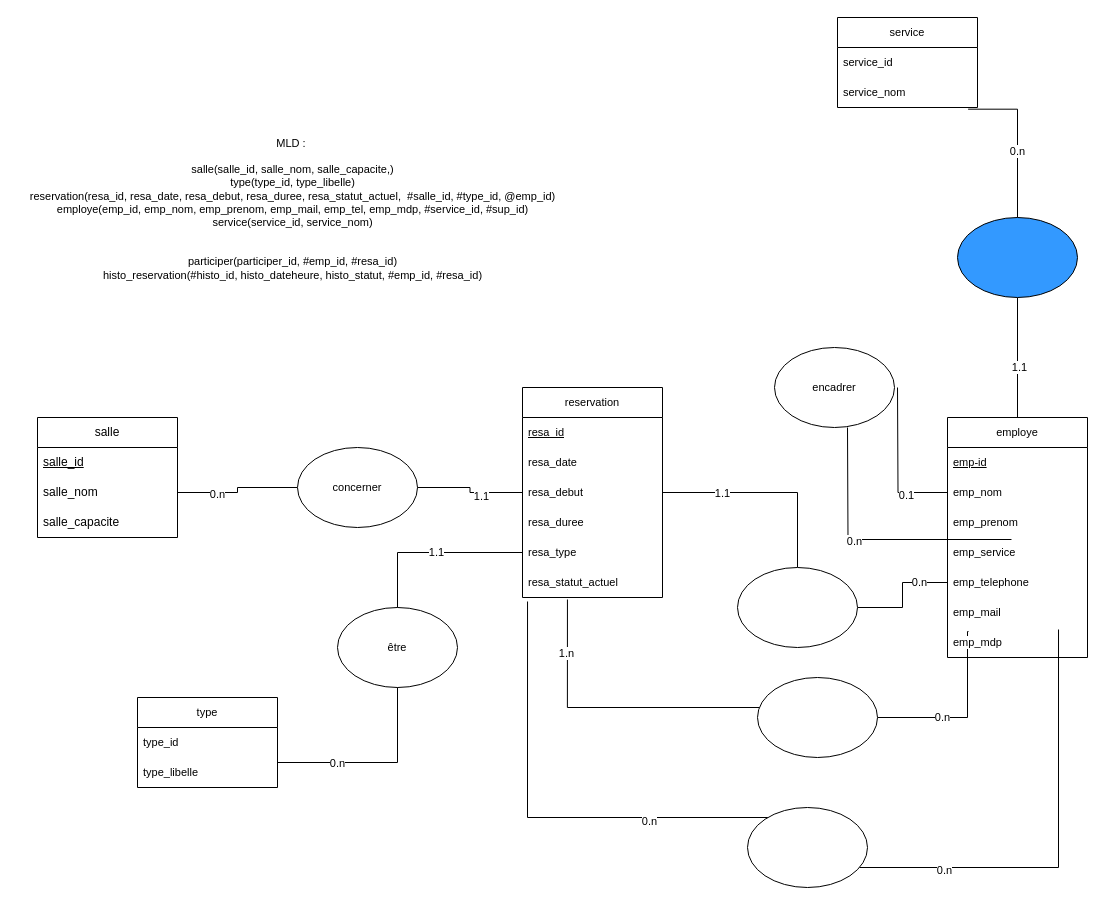
Image size: 1105x905. Some labels were removed from this diagram. Each missing label, with the centre of its shape:
"appartenir" goes at pixel 1017 257.
"effectuer" goes at pixel 797 607.
"modifier dateheure statut" goes at pixel 817 717.
"participer" goes at pixel 807 847.
